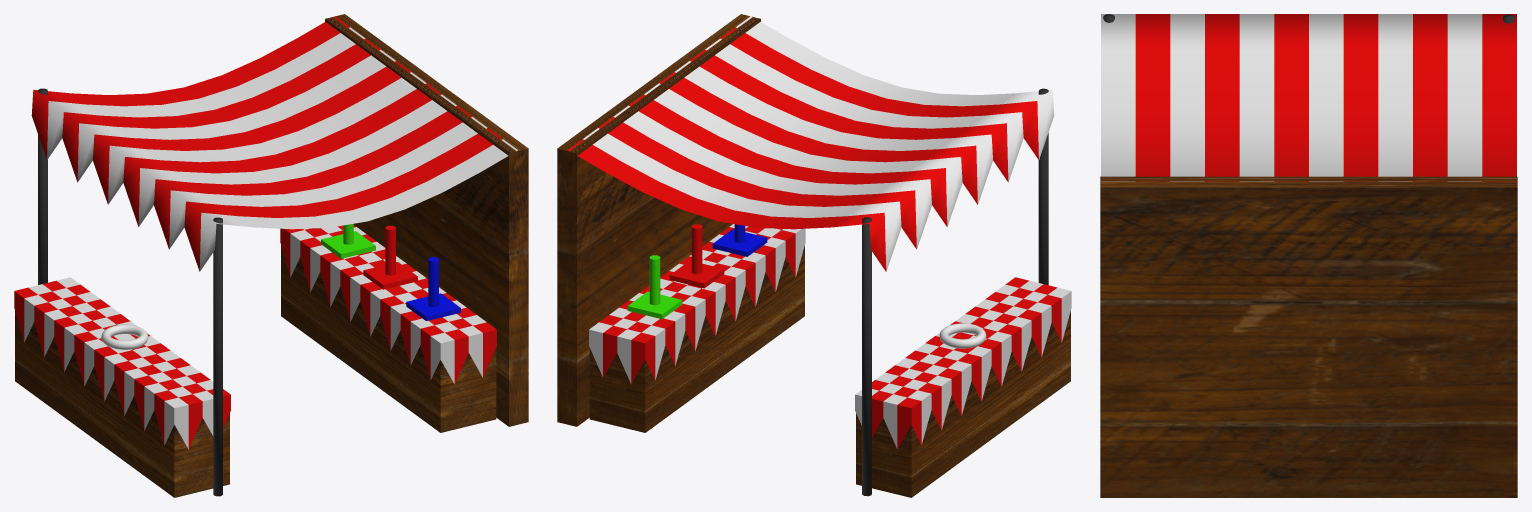
File: ringtoss booth.fbx
3 views of the same model, side by side, from view 1: azimuth 30°, elevation 25°; view 2: azimuth 150°, elevation 25°; view 3: azimuth 270°, elevation 25° (orthographic). The views are drawn at different scales.
Visible parts, largest first — view 1: tarp, Booth backboard, Counter tablecloth, Counter.001, Counter, Counter tablecloth.001, tarp.001, tentpole 1, tentpole 2, ringpole2, ringpole1, ringpole3 (+1 smaller); view 2: tarp, Booth backboard, Counter tablecloth, Counter.001, Counter, Counter tablecloth.001, tarp.001, tentpole 2, tentpole 1, ringpole3, ringpole1, ringpole2 (+1 smaller); view 3: Booth backboard, tarp.
Boxes of the visible parts, x1=… form: tarp: x1=31, y1=16, x2=517, y2=271; Booth backboard: x1=325, y1=14, x2=528, y2=426; Counter tablecloth: x1=14, y1=277, x2=230, y2=449; Counter.001: x1=281, y1=245, x2=496, y2=432; Counter: x1=15, y1=311, x2=229, y2=497; Counter tablecloth.001: x1=280, y1=225, x2=496, y2=384; tarp.001: x1=40, y1=96, x2=216, y2=267; tentpole 1: x1=213, y1=217, x2=222, y2=496; tentpole 2: x1=38, y1=88, x2=47, y2=284; ringpole2: x1=406, y1=257, x2=460, y2=320; ringpole1: x1=363, y1=225, x2=417, y2=289; ringpole3: x1=321, y1=224, x2=375, y2=258; tarp: x1=568, y1=16, x2=1053, y2=270; Booth backboard: x1=557, y1=14, x2=760, y2=426; Counter tablecloth: x1=855, y1=277, x2=1071, y2=449; Counter.001: x1=589, y1=245, x2=804, y2=432; Counter: x1=856, y1=311, x2=1070, y2=497; Counter tablecloth.001: x1=589, y1=224, x2=805, y2=384; tarp.001: x1=869, y1=108, x2=1054, y2=271; tentpole 2: x1=862, y1=217, x2=871, y2=496; tentpole 1: x1=1038, y1=88, x2=1048, y2=285; ringpole3: x1=627, y1=255, x2=682, y2=319; ringpole1: x1=669, y1=224, x2=724, y2=288; ringpole2: x1=712, y1=224, x2=767, y2=256; Booth backboard: x1=1100, y1=176, x2=1517, y2=497; tarp: x1=1101, y1=14, x2=1516, y2=181.
Bounding box in the file's own units: 270 × 208 × 251.
